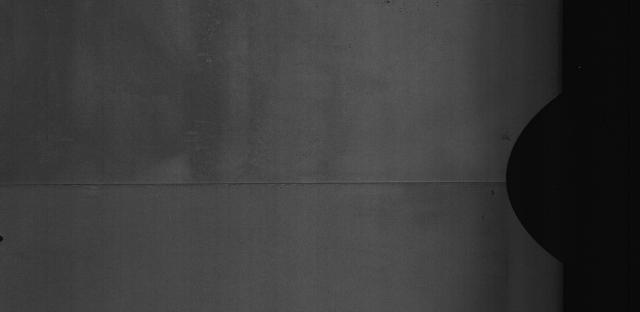welding_line: (4, 172, 519, 197)
